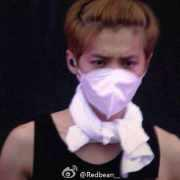OK: (79, 40, 144, 118)
